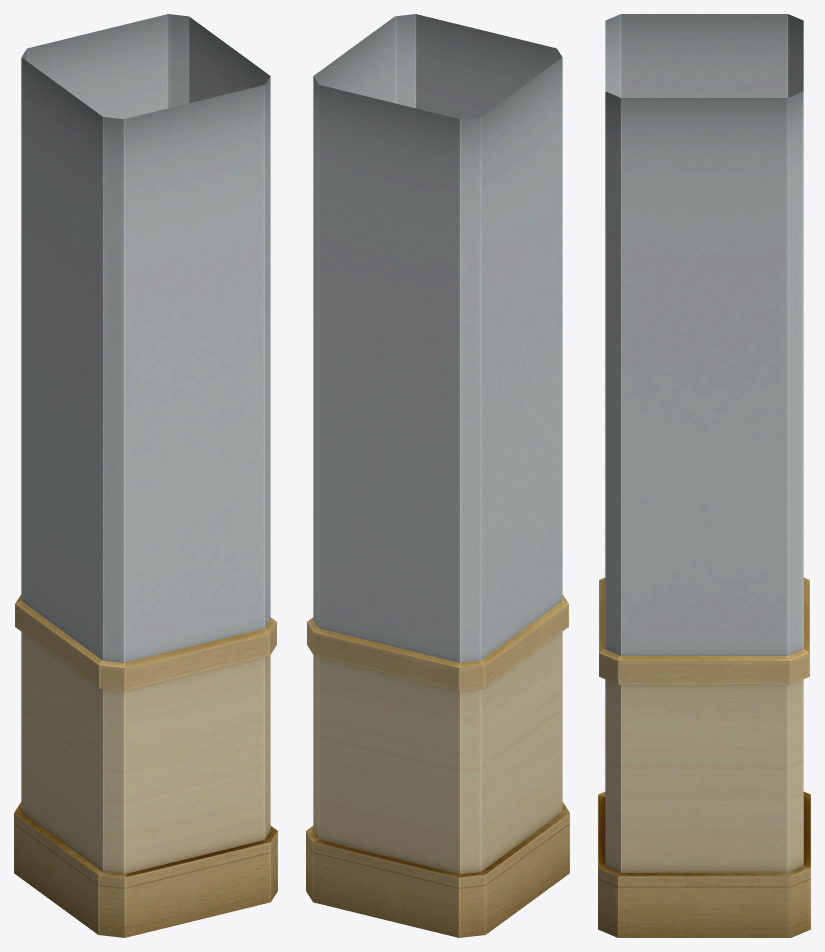
The model's file is InteriorColumn (merge).fbx.
3 renders of one model, left to right at view 1: azimuth 30°, elevation 25°; view 2: azimuth 150°, elevation 25°; view 3: azimuth 270°, elevation 25°, orthographic. The views are drawn at different scales.
Visible parts, largest first — view 1: InteriorColumn; view 2: InteriorColumn; view 3: InteriorColumn.
Boxes of the visible parts, x1,y1,x2,y2 form: InteriorColumn: (14, 14, 277, 937); InteriorColumn: (306, 14, 569, 937); InteriorColumn: (598, 14, 810, 937).
Size of the model in its own units: 0.6916 by 3 by 0.6916.
1 material, 1 textured.
